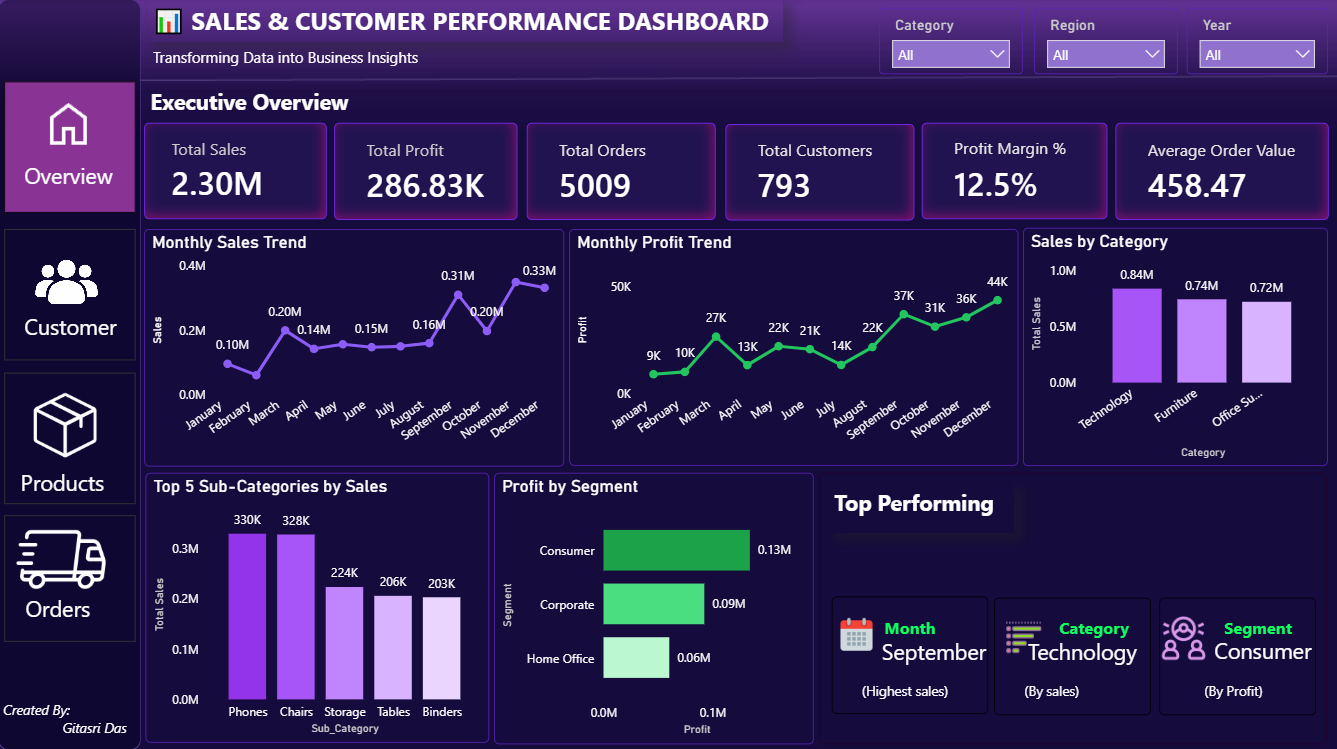

The page's visual inventory and layout, read from the dashboard file:
{"tool":"powerbi","page":{"name":"Executive Overview","canvas":[1325,746],"ordinal":0},"visuals":[{"type":"shape","box":[0,0,141,741.3],"z":0},{"type":"shape","box":[6.2,81.4,129.5,129.5],"z":1000},{"type":"shape","box":[823,590,154.2,115.9],"z":2000},{"type":"shape","box":[810.4,467.9,500.8,267.7],"z":3000},{"type":"textbox","box":[867.1,624.5,135.7,49.3],"z":4000},{"type":"shape","box":[983.1,590.8,154.2,115.9],"z":5000},{"type":"textbox","box":[1011.4,624.5,135.7,49.3],"z":6000},{"type":"textbox","box":[869.6,604,77.7,38.2],"z":7000},{"type":"shape","box":[1145.9,590.8,154.2,115.9],"z":8000},{"type":"textbox","box":[1042.3,604,95,38.2],"z":9000},{"type":"image","box":[824.1,607.8,46,39.8],"z":10000},{"type":"textbox","box":[847.4,668.5,106.1,38.2],"z":11000},{"type":"textbox","box":[1185.4,668.5,106.1,38.2],"z":12000},{"type":"textbox","box":[1007.7,668.5,106.1,38.2],"z":13000},{"type":"cardVisual","fields":{"Data":["SalesData.Total Sales"]},"box":[144.3,122.4,180,95],"z":14000},{"type":"cardVisual","fields":{"Data":["SalesData.Total Orders"]},"box":[522,121.8,186.3,96.2],"z":15000},{"type":"cardVisual","fields":{"Data":["SalesData.Total Profit"]},"box":[332,121.8,181,96.2],"z":16000},{"type":"cardVisual","fields":{"Data":["SalesData.Total Customers"]},"box":[717.9,123.3,186.3,95],"z":17000},{"type":"cardVisual","fields":{"Data":["SalesData.Profit Margin %"]},"box":[911,122.4,183,95],"z":18000},{"type":"columnChart","title":"Sales by Category","fields":{"Category":["SalesData.Category"],"Y":["Sum(SalesData.Sales)"]},"box":[1011.4,225.7,301,235.6],"z":19000},{"type":"barChart","title":"Profit by Segment","fields":{"Category":["SalesData.Segment"],"Y":["SalesData.Total Profit"]},"box":[489.7,467.9,315,267.7],"z":20000},{"type":"slicer","fields":{"Values":["SalesData.Region"]},"box":[1023,8.2,141.7,65.9],"z":21000},{"type":"slicer","fields":{"Values":["SalesData.Category"]},"box":[870.1,8.2,141.7,65.9],"z":22000},{"type":"lineChart","title":"Monthly Profit Trend","fields":{"Category":["DateTable.Month Name"],"Y":["Sum(SalesData.Profit)"]},"box":[564.3,227.5,443,233.7],"z":23000},{"type":"lineChart","title":"Monthly Sales Trend","fields":{"Category":["DateTable.Month Name"],"Y":["Sum(SalesData.Sales)"]},"box":[144.3,227,414.4,234.4],"z":24000},{"type":"slicer","fields":{"Values":["DateTable.Year"]},"box":[1173,8.4,139.4,65.4],"z":25000},{"type":"textbox","box":[147.9,0,626.5,42.3],"z":26000},{"type":"image","box":[41.9,92.5,55.5,61.7],"z":27000},{"type":"textbox","box":[21,154.2,104.8,41.9],"z":28000},{"type":"textbox","box":[147.9,42.3,274.7,41],"z":29000},{"type":"image","box":[27.2,235.6,86.3,98.7],"z":29000,"group":"g1"},{"type":"textbox","box":[145.5,81.4,249.2,54.3],"z":30000},{"type":"cardVisual","fields":{"Data":["SalesData.Average Order Value"]},"box":[1102.7,121.8,210,96.2],"z":31000},{"type":"textbox","box":[21,303.4,104.8,40.7],"z":31000,"group":"g1"},{"type":"textbox","box":[16.6,457.7,106.7,40.6],"z":31000,"group":"g3"},{"type":"textbox","box":[22.8,581.7,106.1,40.7],"z":31000,"group":"g2"},{"type":"image","box":[12.3,376.2,107.9,87.3],"z":32000,"group":"g3"},{"type":"image","box":[9.2,508.9,107.3,87.6],"z":32000,"group":"g2"},{"type":"image","box":[989.4,610.3,44.7,38.5],"z":32000},{"type":"image","box":[1147.3,600.4,46,59.7],"z":33000},{"type":"textbox","box":[1205.1,604,95,38.2],"z":34000},{"type":"textbox","box":[1195.2,622.9,115.9,49.3],"z":35000},{"type":"textbox","box":[820.3,477.4,182.6,49.3],"z":36000},{"type":"group","id":"g1","title":"Group 1","box":[21,235.6,104.8,108.5],"z":37000},{"type":"shape","box":[6.2,227,129.5,129.5],"z":38000},{"type":"shape","box":[6.2,368.8,129.5,129.5],"z":39000},{"type":"textbox","box":[0,687.4,135.5,54.7],"z":40000},{"type":"columnChart","title":"Top 5 Sub-Categories by Sales","fields":{"Category":["SalesData.Sub_Category"],"Y":["Sum(SalesData.Sales)"]},"box":[145.5,467.5,339.2,266.4],"z":41000},{"type":"group","id":"g2","title":"Group 2","box":[9.2,508.9,119.6,113.5],"z":42000},{"type":"shape","box":[6.2,509.4,129.5,125],"z":43000},{"type":"group","id":"g3","title":"Group 2","box":[12.3,376.2,111,122.1],"z":44000}]}

Visuals, with their boxes in screenshot pixels (x1, y1, x2, y2), scaled from the page's 1325x746 canvas onto the 1337x749 screenshot:
shape: [0,0,142,744]
shape: [6,82,137,212]
shape: [830,592,986,709]
shape: [818,470,1323,739]
textbox: [875,627,1012,677]
shape: [992,593,1148,710]
textbox: [1021,627,1157,677]
textbox: [877,606,956,645]
shape: [1156,593,1312,710]
textbox: [1052,606,1148,645]
image: [832,610,878,650]
textbox: [855,671,962,710]
textbox: [1196,671,1303,710]
textbox: [1017,671,1124,710]
cardVisual - SalesData.Total Sales: [146,123,327,218]
cardVisual - SalesData.Total Orders: [527,122,715,219]
cardVisual - SalesData.Total Profit: [335,122,518,219]
cardVisual - SalesData.Total Customers: [724,124,912,219]
cardVisual - SalesData.Profit Margin %: [919,123,1104,218]
"Sales by Category" columnChart: [1021,227,1324,463]
"Profit by Segment" barChart: [494,470,812,739]
slicer - SalesData.Region: [1032,8,1175,74]
slicer - SalesData.Category: [878,8,1021,74]
"Monthly Profit Trend" lineChart: [569,228,1016,463]
"Monthly Sales Trend" lineChart: [146,228,564,463]
slicer - DateTable.Year: [1184,8,1324,74]
textbox: [149,0,781,42]
image: [42,93,98,155]
textbox: [21,155,127,197]
textbox: [149,42,426,84]
image: [27,237,115,336]
textbox: [147,82,398,136]
cardVisual - SalesData.Average Order Value: [1113,122,1325,219]
textbox: [21,305,127,345]
textbox: [17,460,124,500]
textbox: [23,584,130,625]
image: [12,378,121,465]
image: [9,511,118,599]
image: [998,613,1043,651]
image: [1158,603,1204,663]
textbox: [1216,606,1312,645]
textbox: [1206,625,1323,675]
textbox: [828,479,1012,529]
"Group 1" group: [21,237,127,345]
shape: [6,228,137,358]
shape: [6,370,137,500]
textbox: [0,690,137,745]
"Top 5 Sub-Categories by Sales" columnChart: [147,469,489,737]
"Group 2" group: [9,511,130,625]
shape: [6,511,137,637]
"Group 2" group: [12,378,124,500]
